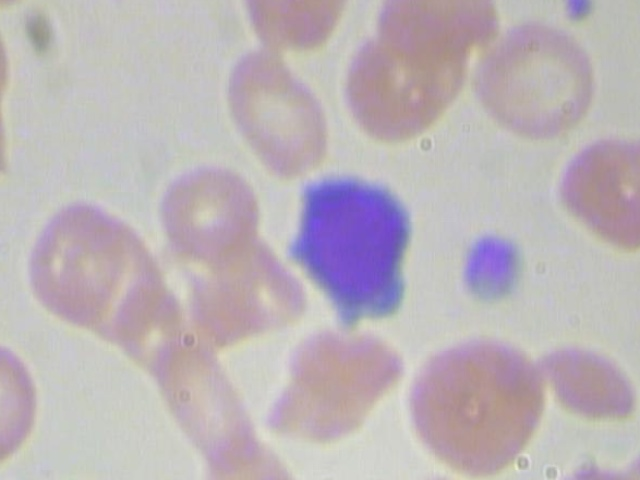Platelets: (454, 225, 538, 318), (555, 0, 598, 33)
RBC: (401, 330, 548, 480), (465, 16, 603, 154), (220, 42, 338, 178), (157, 162, 264, 271), (555, 136, 640, 254), (544, 335, 639, 425)
WBC: (290, 157, 416, 332)
